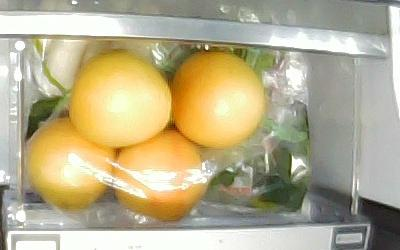grapefruit: (70, 52, 172, 147), (171, 52, 265, 146)
grapefruit_vinyl: (116, 128, 209, 221), (29, 120, 114, 205)
